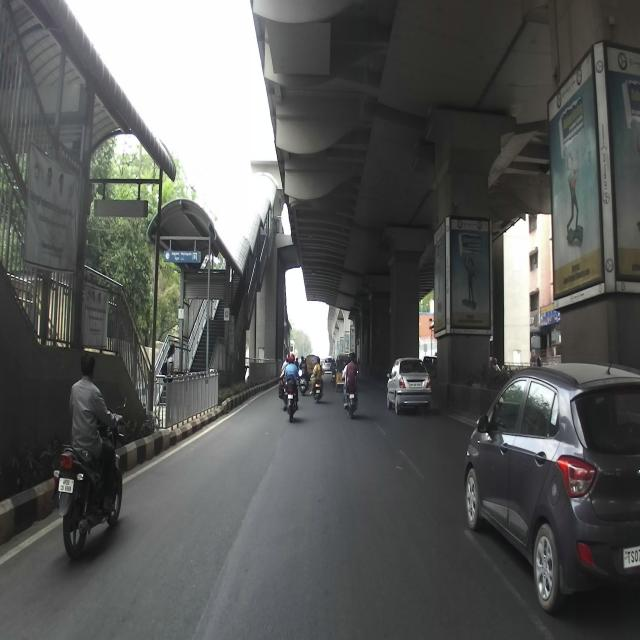car: (463, 356, 639, 616)
motorcycle: (53, 396, 127, 558)
